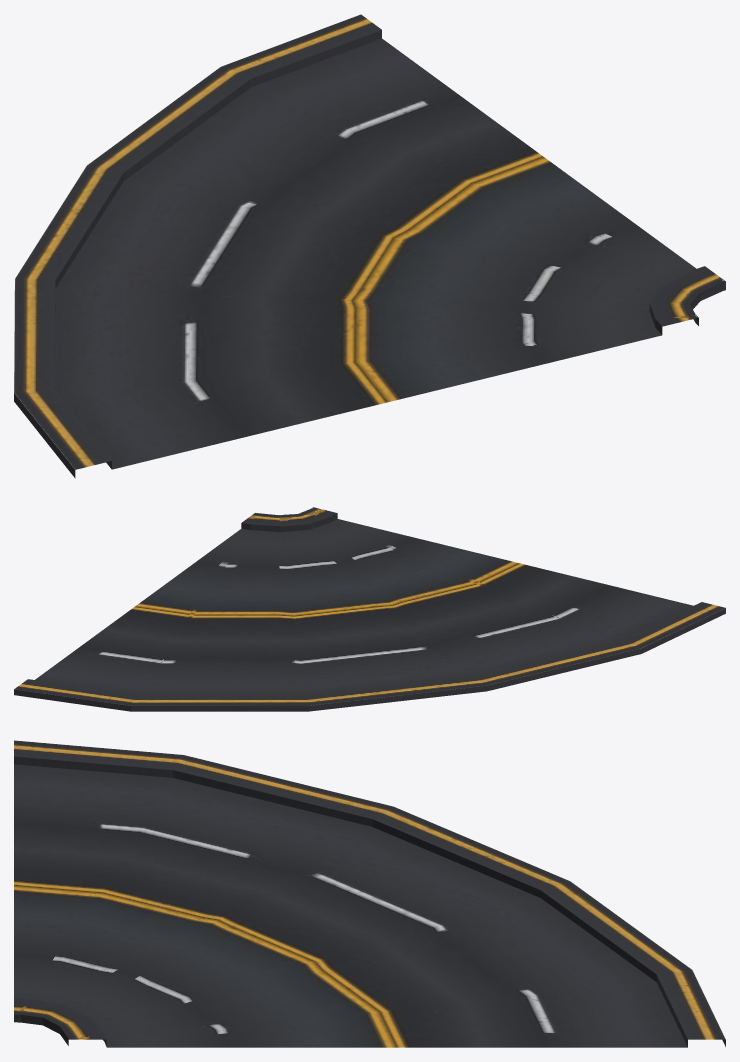
The model's file is Road_L-Shape.fbx.
3 views of the same model, one above another, from view 1: azimuth 30°, elevation 25°; view 2: azimuth 150°, elevation 25°; view 3: azimuth 270°, elevation 25° (orthographic). The views are drawn at different scales.
Parts seen in each view (by area): view 1: Plane.005; view 2: Plane.005; view 3: Plane.005.
Boxes of the visible parts, <box> form: Plane.005: <box>14,14,725,478</box>; Plane.005: <box>14,507,725,711</box>; Plane.005: <box>14,740,725,1047</box>.
Bounding box in the file's own units: 1737 × 21.19 × 1746.
